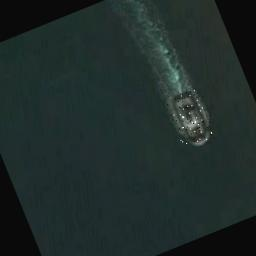boat: (164, 88, 216, 151)
